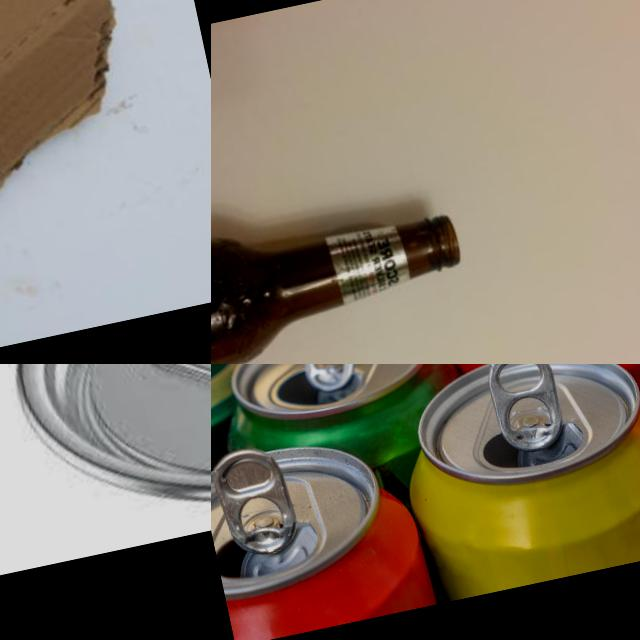aba de lata: (211, 439, 301, 562), (482, 364, 569, 459), (285, 364, 370, 395)
garrafa de vidro: (211, 182, 479, 364)
lata: (386, 364, 640, 604), (211, 424, 430, 640), (211, 364, 468, 485)
papelão: (0, 0, 161, 306)
